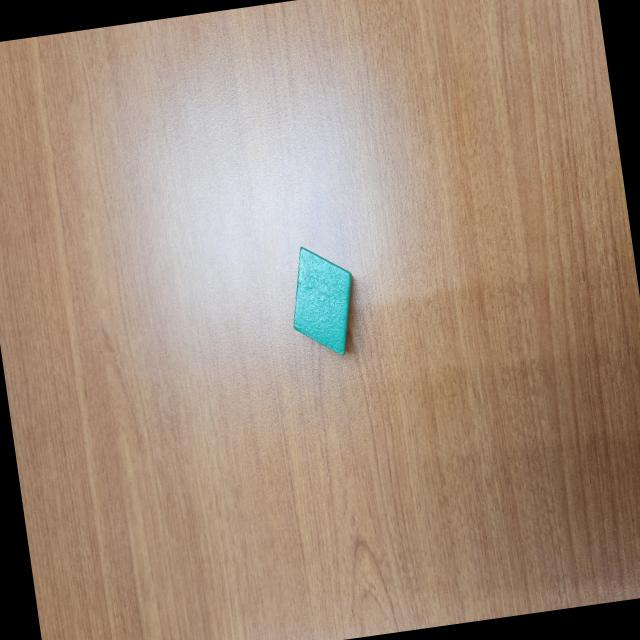green: (282, 241, 364, 361)
